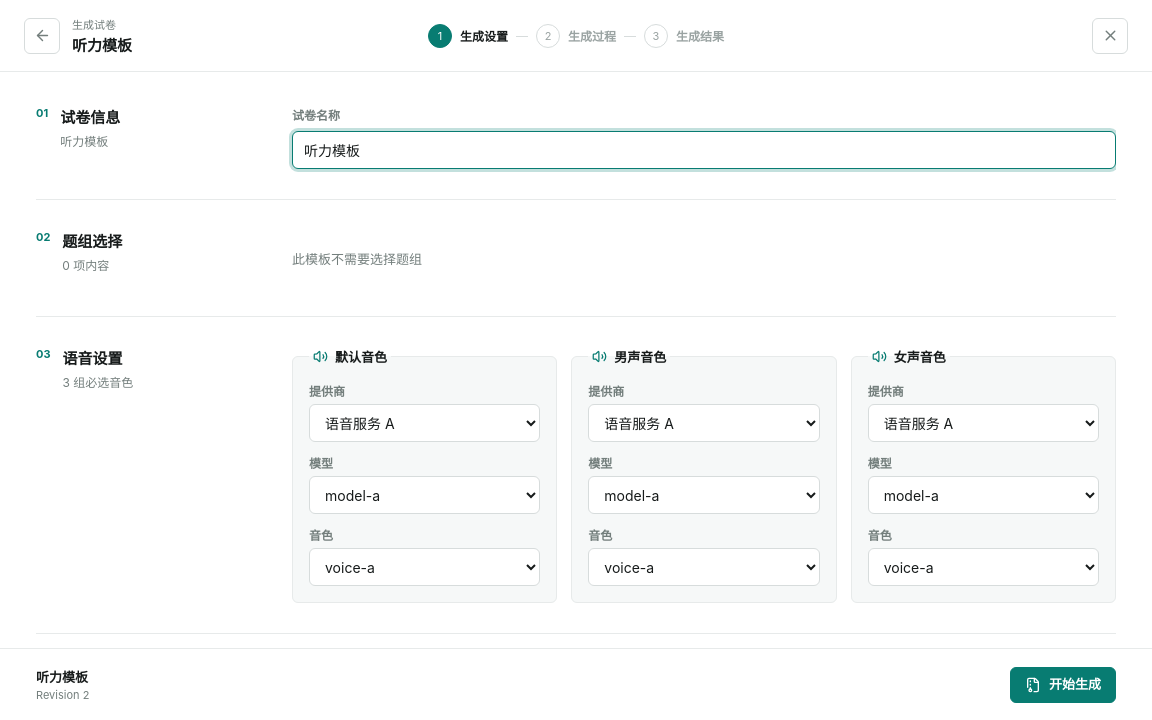
Test: TemplateExamGenerationPage › 生成完成后停留在结果页，加入试卷库后防止重复操作
Click the button "开始生成" at [1063, 684], box [1010,666,1116,702]
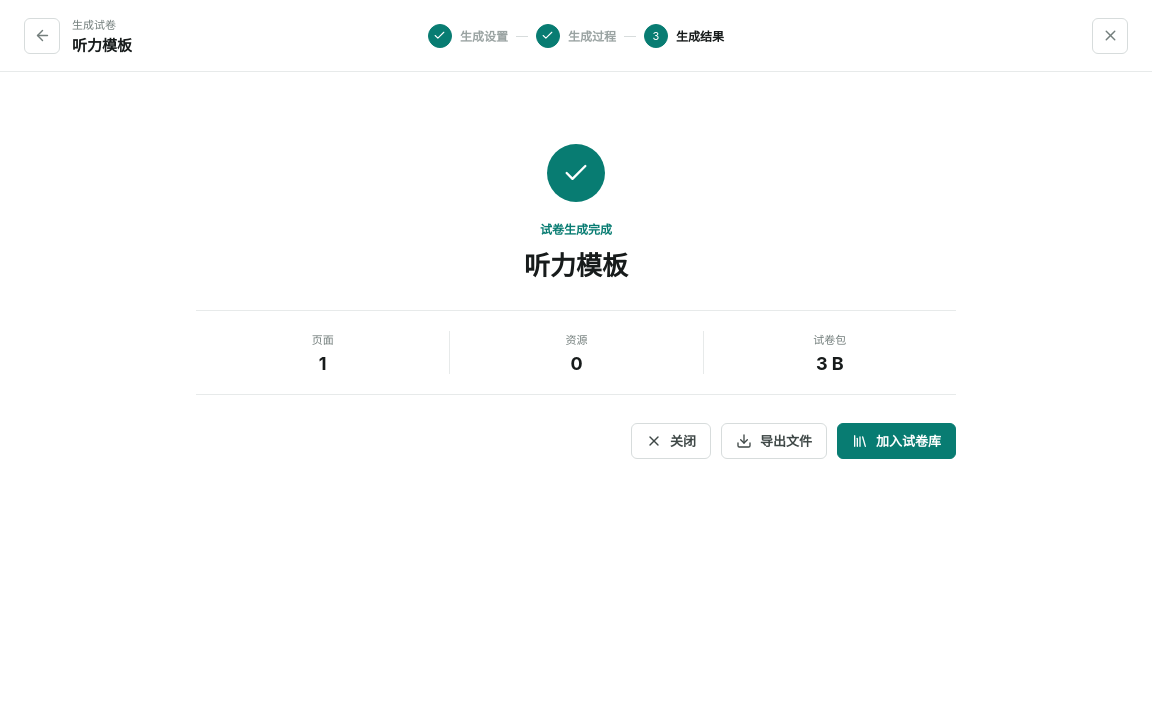
Check: the text "试卷生成完成" is shown, box [540,220,612,237]
Check: the button "加入试卷库" is enabled
Check: the button "导出文件" is enabled, box [721,423,827,459]
Click the button "加入试卷库" at [896, 441], box [837,423,956,459]
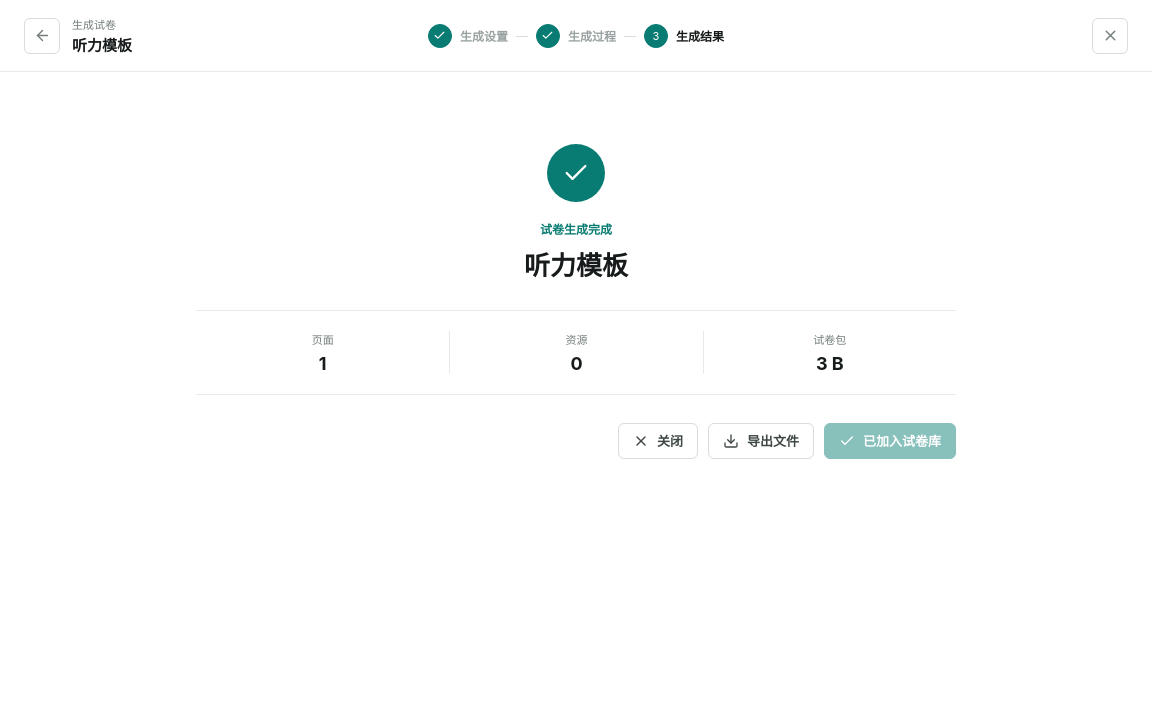
Check: the text "试卷生成完成" is shown, box [540,220,612,237]
Check: the button "已加入试卷库" is disabled, box [824,423,956,459]
